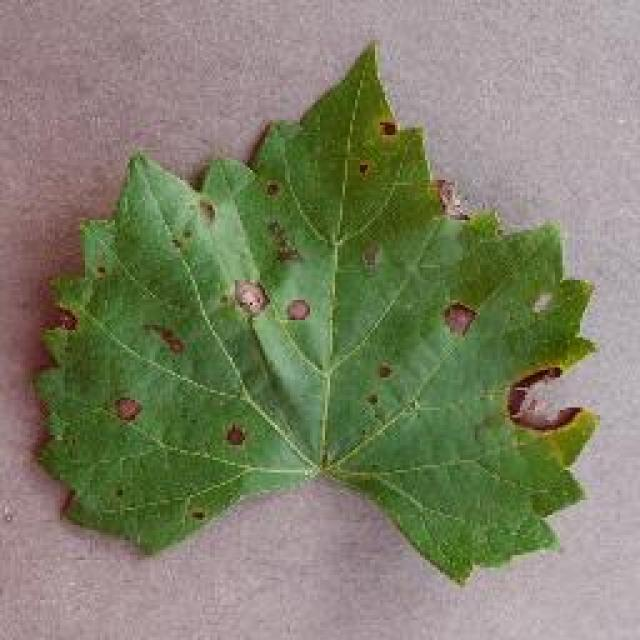Grape___Black_rot: (24, 34, 611, 597)
